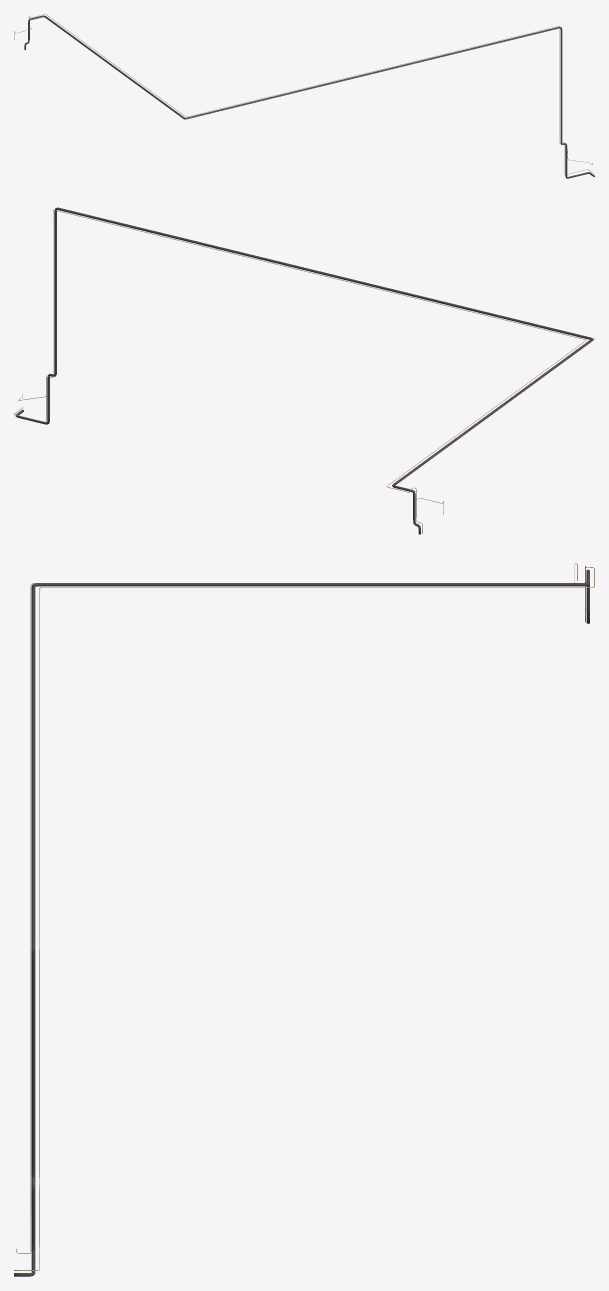
Rendered from pipes_hvac__hvac-split_furnace_cond96.glb.
3 renders of one model, top to bottom at view 1: azimuth 30°, elevation 25°; view 2: azimuth 150°, elevation 25°; view 3: azimuth 270°, elevation 25°, orthographic. The views are drawn at different scales.
Parts seen in each view (by area): view 1: pipe_hvac_lineset_suction_rd16ay36, pipe_hvac_lineset_liquid_rd16ay36, pipe_hvac_lineset_tstat_cable_rd16ay36; view 2: pipe_hvac_lineset_suction_rd16ay36, pipe_hvac_lineset_liquid_rd16ay36; view 3: pipe_hvac_lineset_suction_rd16ay36, pipe_hvac_lineset_tstat_cable_rd16ay36, pipe_hvac_lineset_liquid_rd16ay36.
Boxes of the visible parts, x1,y1,x2,y2 form: pipe_hvac_lineset_suction_rd16ay36: (24, 15, 594, 178); pipe_hvac_lineset_liquid_rd16ay36: (24, 14, 593, 174); pipe_hvac_lineset_tstat_cable_rd16ay36: (14, 16, 592, 164); pipe_hvac_lineset_suction_rd16ay36: (15, 207, 593, 534); pipe_hvac_lineset_liquid_rd16ay36: (14, 210, 586, 533); pipe_hvac_lineset_suction_rd16ay36: (14, 569, 589, 1276); pipe_hvac_lineset_tstat_cable_rd16ay36: (16, 563, 586, 1253); pipe_hvac_lineset_liquid_rd16ay36: (14, 566, 594, 1270).
Bounding box in the file's own units: 11.93 × 4.04 × 6.94.
